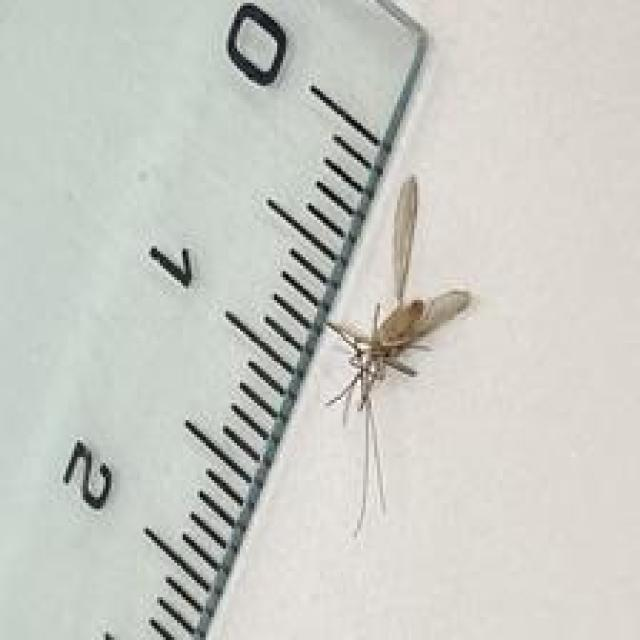Culex: (320, 174, 471, 537)
